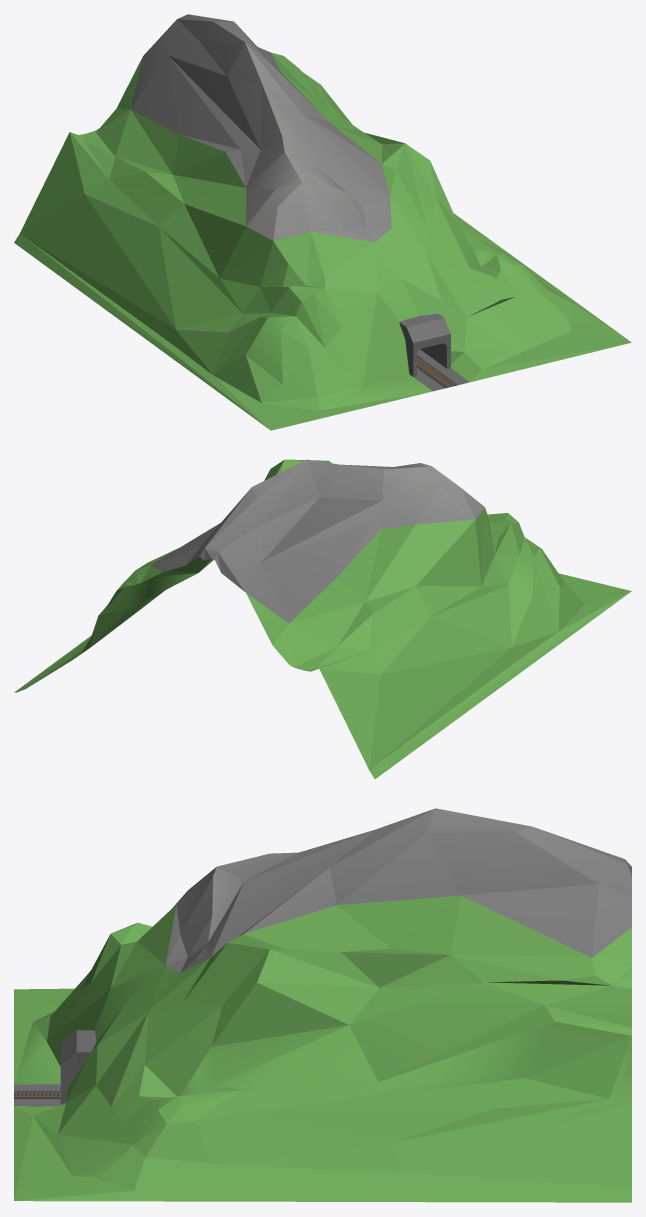
The model's file is SM_Floor_Railway_05.fbx.
The picture shows the model from 3 angles, top to bottom: view 1: azimuth 30°, elevation 25°; view 2: azimuth 150°, elevation 25°; view 3: azimuth 270°, elevation 25°; orthographic projection. The views are drawn at different scales.
Parts seen in each view (by area): view 1: SM_Floor_Railway_05; view 2: SM_Floor_Railway_05; view 3: SM_Floor_Railway_05.
Part boxes in pixels (x1=…): SM_Floor_Railway_05: x1=14, y1=14, x2=631, y2=430; SM_Floor_Railway_05: x1=14, y1=459, x2=631, y2=778; SM_Floor_Railway_05: x1=14, y1=808, x2=631, y2=1202.
Size of the model in its own units: 100 by 59.54 by 123.
